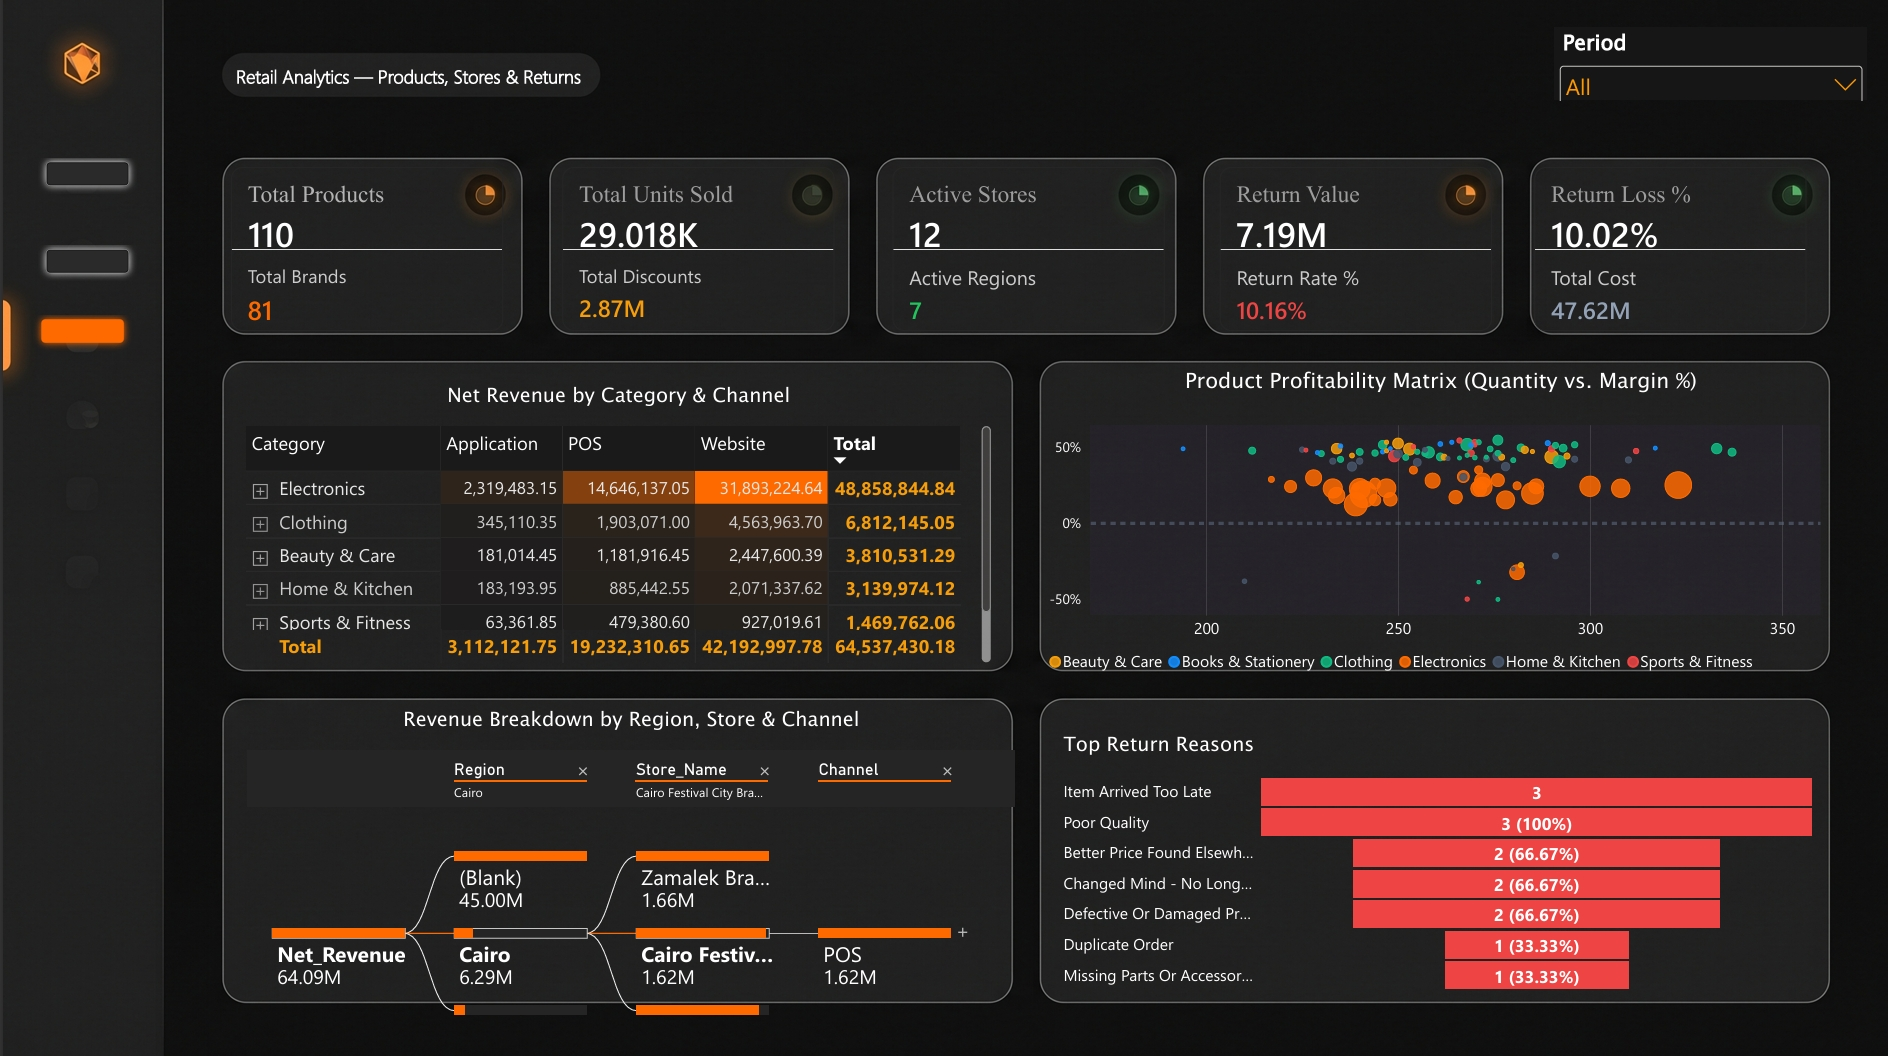

The dashboard page shown, as its layout file describes it:
{"tool":"powerbi","page":{"name":"Products & Operations","canvas":[1920,1080],"ordinal":2},"visuals":[{"type":"textbox","box":[131.8,66.9,563.2,36.8],"z":0},{"type":"slicer","fields":{"Values":["Calendar.MMM-YYYY"]},"box":[1579.6,29.6,317.9,73.5],"z":1000},{"type":"cardVisual","fields":{"Data":["Products_Dim.Total Products"]},"box":[233.3,172.2,277,167],"z":2000},{"type":"cardVisual","fields":{"Data":["Sales - Fact.Sum of Quantity"]},"box":[570.4,172.2,277,167],"z":3000},{"type":"cardVisual","fields":{"Data":["POS_Stores.Active Stores"]},"box":[905.6,172.2,277,167],"z":4000},{"type":"cardVisual","fields":{"Data":["Sales - Fact.Return"]},"box":[1238.9,172.2,277,167],"z":5000},{"type":"cardVisual","fields":{"Data":["Sales - Fact.Return_Loss %"]},"box":[1559.3,172.2,277,167],"z":6000},{"type":"scatterChart","title":"Product Profitability Matrix (Quantity vs. Margin %)","fields":{"Category":["Products_Dim.Product_Name"],"Series":["Products_Dim.Category"],"Size":["Sales - Fact.Net_Revenue"],"X":["Sales - Fact.Sum of Quantity"],"Y":["Sales - Fact.PM%"]},"box":[1064.8,374.1,798.1,316.7],"z":7000},{"type":"decompositionTreeVisual","title":"Revenue Breakdown by Region, Store & Channel","fields":{"Analyze":["Sales - Fact.Net_Revenue"],"ExplainBy":["POS_Stores.Region","POS_Stores.Store_Name","Sales - Fact.Channel","Sales - Fact.Payment_Method"]},"box":[233.7,704.9,813,347.9],"z":8000},{"type":"funnel","title":"Top Return Reasons","fields":{"Category":["Return_Reasons_Lookup.Reason_Description"],"Y":["CountNonNull(Returns_Raw.Return_ID)"]},"box":[1064.3,729.9,798.7,298.1],"z":9000},{"type":"pivotTable","title":"Net Revenue by Category & Channel","fields":{"Columns":["Sales - Fact.Channel"],"Rows":["Products_Dim.Category","Products_Dim.Subcategory"],"Values":["Sales - Fact.Net_Revenue"]},"box":[233.1,374.5,789.2,317.2],"z":10000},{"type":"actionButton","box":[32.5,319.1,100,40],"z":11000},{"type":"actionButton","box":[37.1,248.4,100,40],"z":12000},{"type":"actionButton","box":[37.1,158.6,100,40],"z":13000}]}

Visuals, with their boxes on the page's 1920x1080 design canvas (x1, y1, x2, y2). These are canvas units, not pixel positions in the 1888x1056 screenshot, which may show the page scaled, cropped or inside an application window:
textbox: [left=132, top=67, right=695, bottom=104]
slicer - Calendar.MMM-YYYY: [left=1580, top=30, right=1898, bottom=103]
cardVisual - Products_Dim.Total Products: [left=233, top=172, right=510, bottom=339]
cardVisual - Sales - Fact.Sum of Quantity: [left=570, top=172, right=847, bottom=339]
cardVisual - POS_Stores.Active Stores: [left=906, top=172, right=1183, bottom=339]
cardVisual - Sales - Fact.Return: [left=1239, top=172, right=1516, bottom=339]
cardVisual - Sales - Fact.Return_Loss %: [left=1559, top=172, right=1836, bottom=339]
"Product Profitability Matrix (Quantity vs. Margin %)" scatterChart: [left=1065, top=374, right=1863, bottom=691]
"Revenue Breakdown by Region, Store & Channel" decompositionTreeVisual: [left=234, top=705, right=1047, bottom=1053]
"Top Return Reasons" funnel: [left=1064, top=730, right=1863, bottom=1028]
"Net Revenue by Category & Channel" pivotTable: [left=233, top=374, right=1022, bottom=692]
actionButton: [left=32, top=319, right=132, bottom=359]
actionButton: [left=37, top=248, right=137, bottom=288]
actionButton: [left=37, top=159, right=137, bottom=199]
